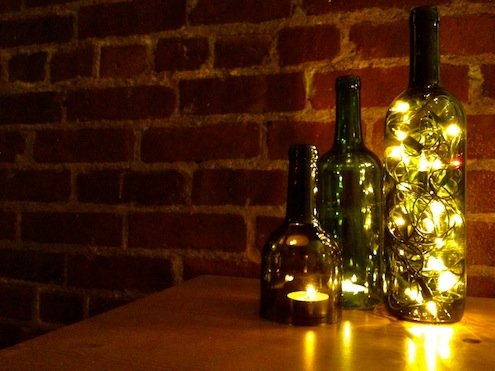glass_bottle: (381, 5, 471, 326), (257, 142, 345, 328)
